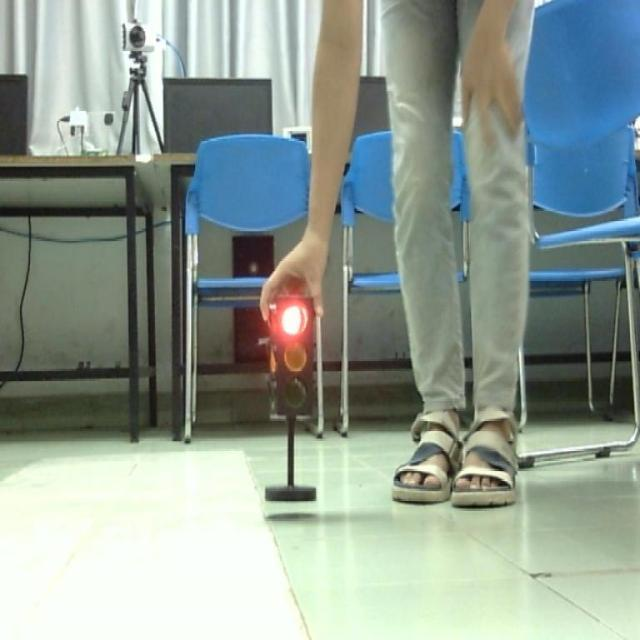red light: (282, 302, 310, 338)
